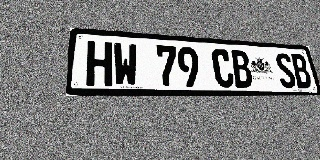7: (155, 45, 180, 87)
9: (177, 46, 202, 87)
B: (230, 50, 254, 88), (290, 54, 313, 88)
C: (211, 49, 235, 87)
H: (86, 41, 112, 86)
S: (274, 53, 298, 88)
W: (113, 42, 138, 87)
